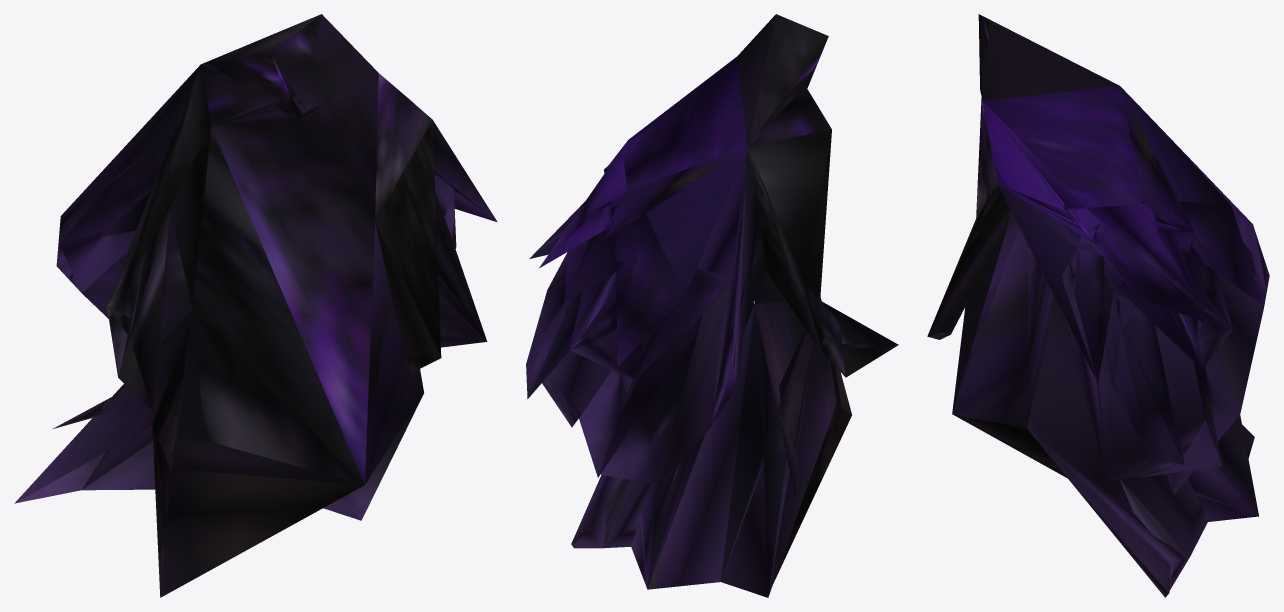
The model's file is demo_shade_01.glb.
3 views of the same model, side by side, from view 1: azimuth 30°, elevation 25°; view 2: azimuth 150°, elevation 25°; view 3: azimuth 270°, elevation 25° (orthographic). The views are drawn at different scales.
Parts seen in each view (by area): view 1: node_0; view 2: node_0; view 3: node_0.
Boxes of the visible parts, x1,y1,x2,y2 form: node_0: (14,14,497,597); node_0: (526,14,898,597); node_0: (927,14,1269,597).
Size of the model in its own units: 0.4506 by 0.6706 by 0.3991.
Materials: 1 (1 with a texture image).
